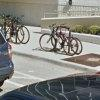Bicycle: (39, 19, 85, 62), (0, 7, 30, 56)
